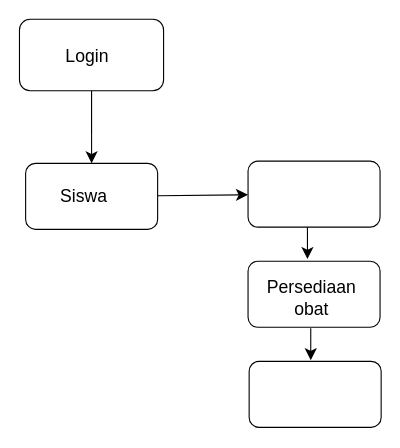
This 400x448 diagram has some shape labels left out. The shapes that lost their labels are listed below. From the top down, each one's centre as x and y in pixels, then its label:
At (313,193): "Ruang uks".
At (314,393): "Kembali ke kelas".
